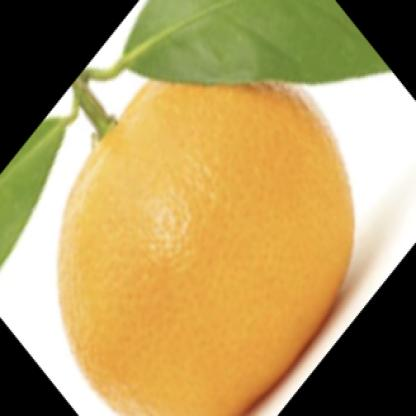fresh: (58, 48, 353, 416)
